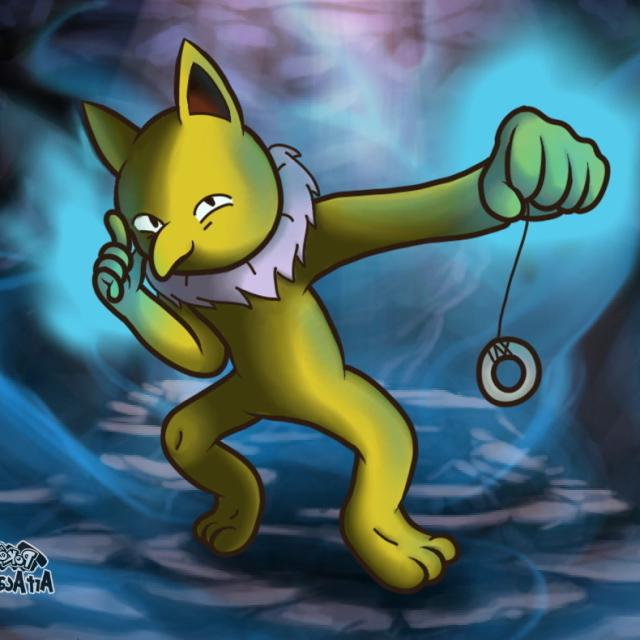Hypno: (88, 45, 425, 568)
